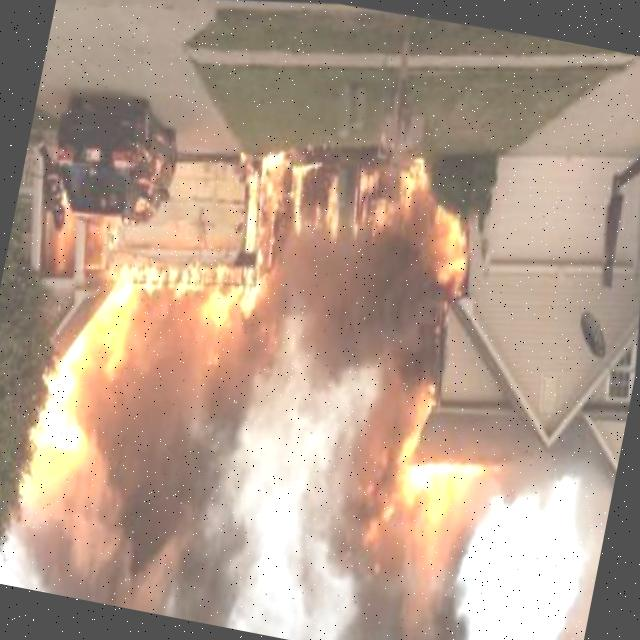fire: (233, 119, 447, 280), (10, 339, 105, 500), (70, 242, 157, 370), (367, 439, 489, 526), (173, 250, 275, 346), (415, 201, 488, 315), (128, 285, 196, 372), (136, 248, 192, 302)
